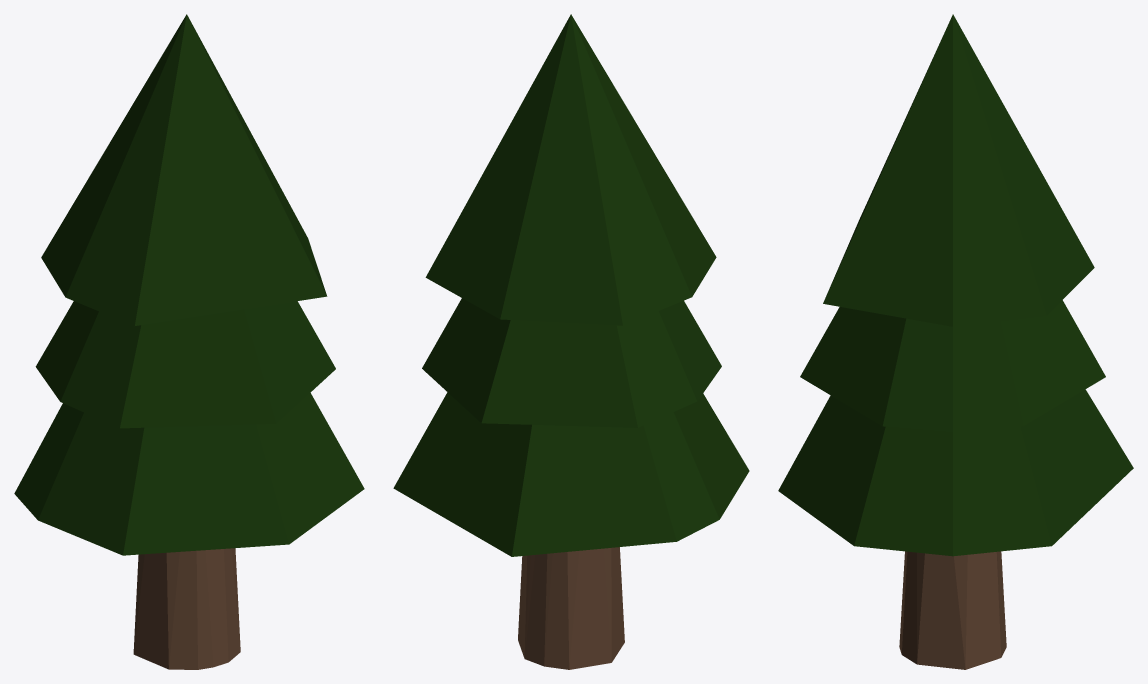
File: PineTree.gltf
The picture shows the model from 3 angles, left to right: view 1: azimuth 30°, elevation 25°; view 2: azimuth 150°, elevation 25°; view 3: azimuth 270°, elevation 25°; orthographic projection.
Visible parts, largest first — view 1: Cylinder; view 2: Cylinder; view 3: Cylinder.
Part boxes in pixels (x1,y1,x2,y2): Cylinder: [14, 14, 364, 669]; Cylinder: [393, 14, 749, 669]; Cylinder: [778, 14, 1133, 669].
Size of the model in its own units: 1.25 by 2.55 by 1.3.
1 material, 1 textured.
